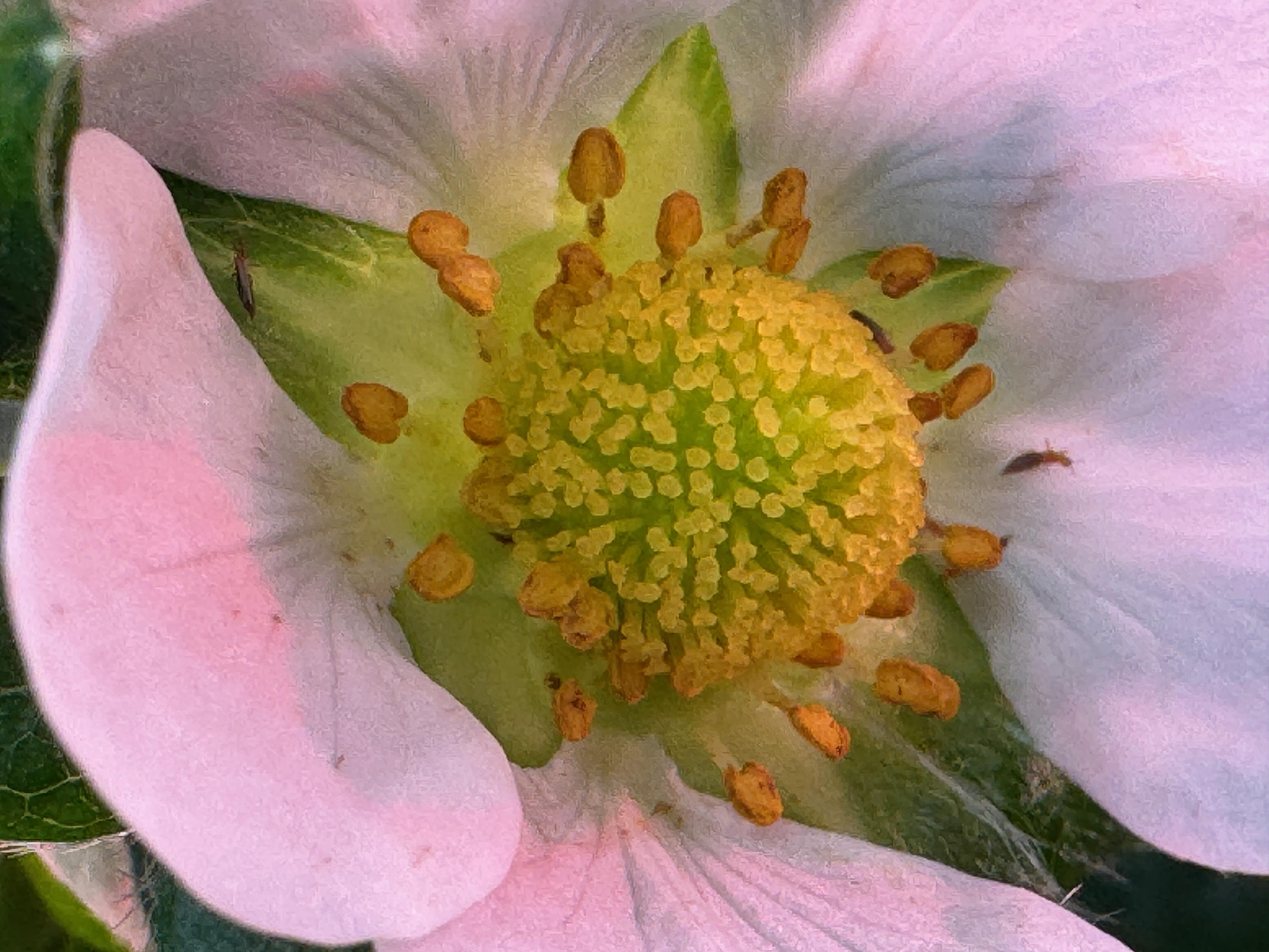tiny_pests: (985, 417, 1100, 499), (214, 233, 275, 327)
